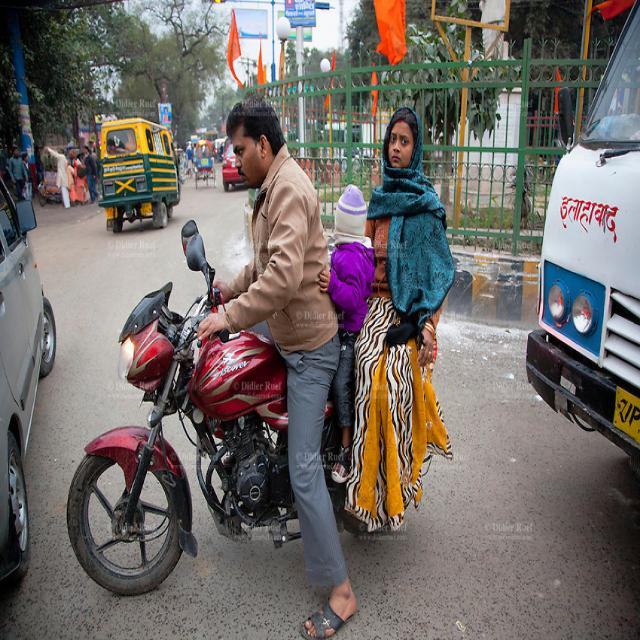autorikshaw: (94, 114, 182, 234)
motorcycle: (68, 274, 428, 592)
